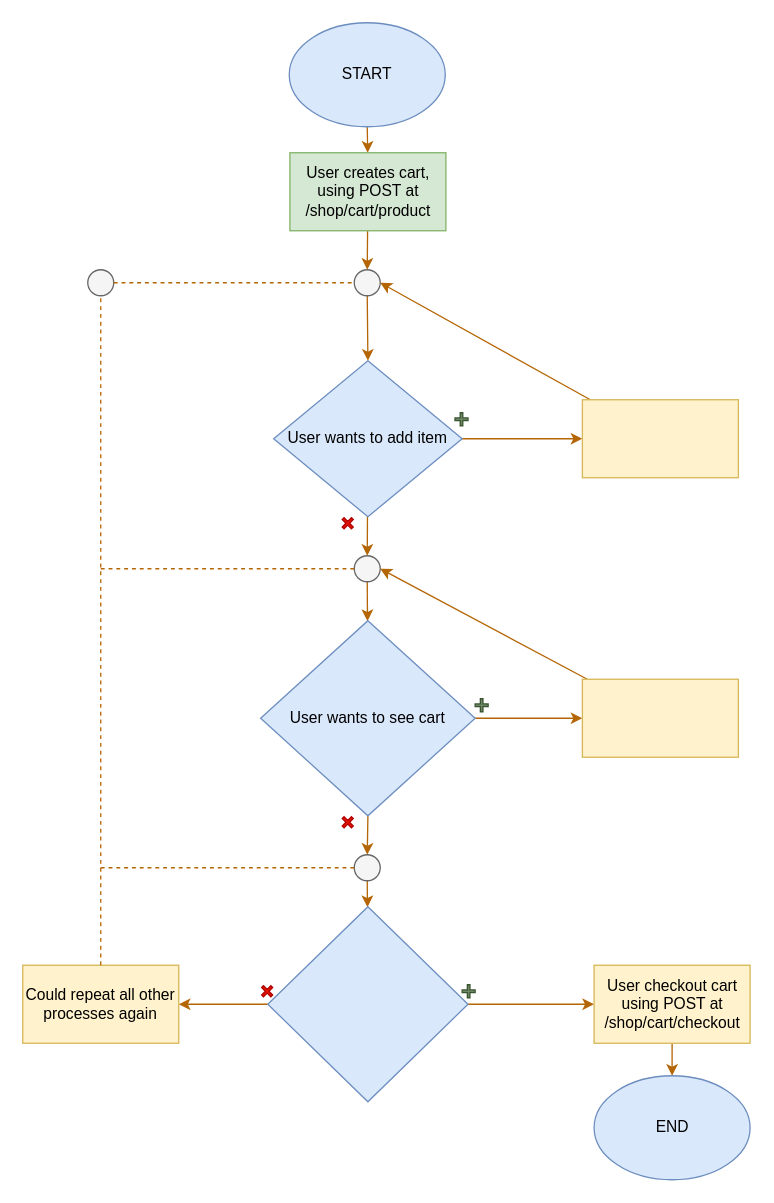
Image size: 774x1203. Some labels were removed from this diagram. The shapes that lost their labels are listed below. From the top down, each one's centre as x and y in pixels, then its label:
pixel 659 438: User is adding item in cart using PATCH at /shop/cart/product
pixel 659 717: User checking current cart using GET at /shop/cart
pixel 367 1003: User wants to checkout
